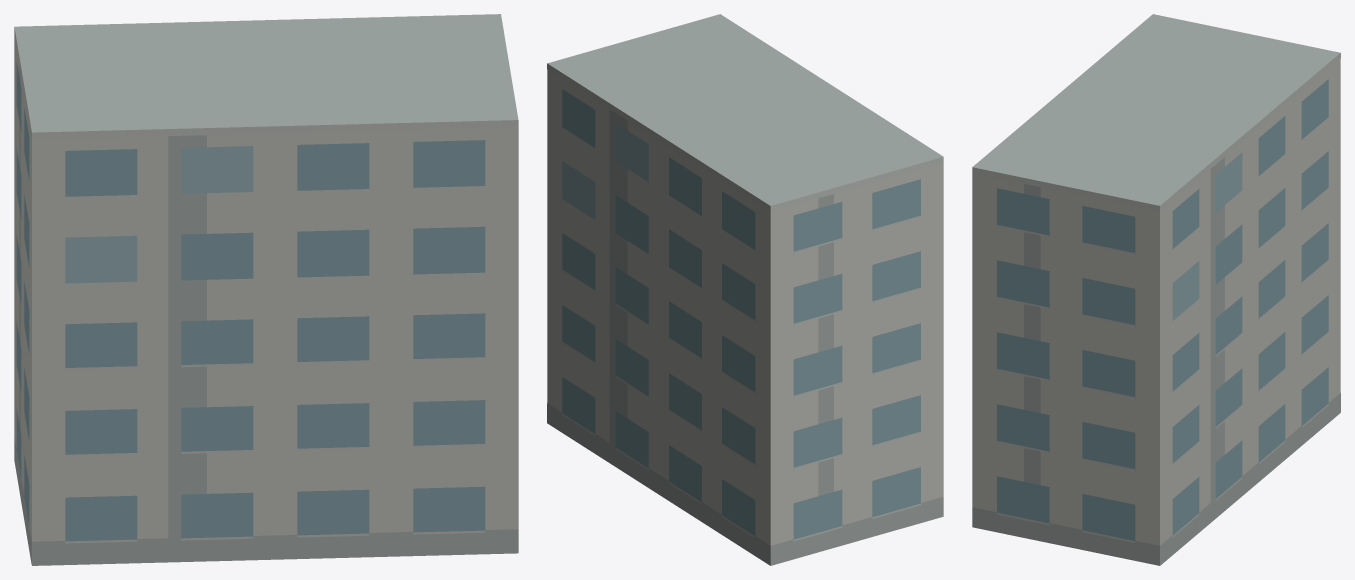
File: survey-upis-32884372.glb
3 renders of one model, left to right at view 1: azimuth 30°, elevation 25°; view 2: azimuth 150°, elevation 25°; view 3: azimuth 270°, elevation 25°, orthographic. The views are drawn at different scales.
Visible parts, largest first — view 1: survey-upis-32884372.tmp; view 2: survey-upis-32884372.tmp; view 3: survey-upis-32884372.tmp.
Part boxes in pixels (x1,y1,x2,y2): survey-upis-32884372.tmp: (14, 14, 518, 565); survey-upis-32884372.tmp: (547, 14, 943, 565); survey-upis-32884372.tmp: (972, 14, 1340, 565).
Size of the model in its own units: 16.92 by 14.79 by 13.73.
